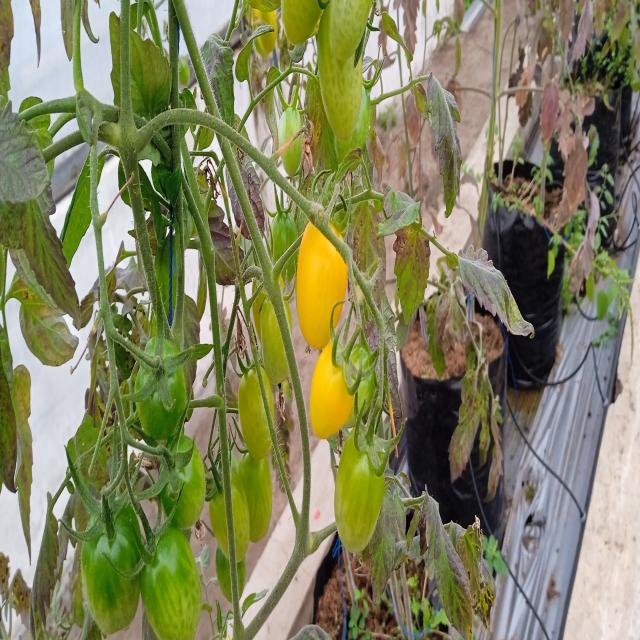fine: (302, 206, 347, 343), (318, 323, 348, 440)
unripe: (75, 490, 146, 624), (135, 526, 209, 639), (335, 427, 391, 558), (317, 15, 366, 134), (136, 338, 188, 433), (168, 427, 210, 531), (236, 361, 278, 464), (261, 188, 303, 280), (230, 459, 278, 538), (242, 263, 290, 341), (204, 490, 254, 560), (258, 295, 295, 381), (201, 545, 249, 599), (276, 102, 311, 168), (286, 0, 321, 52)
